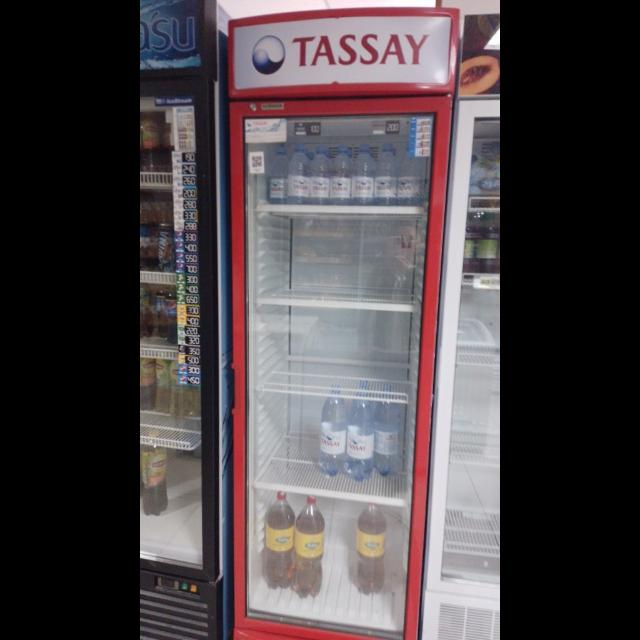Cooling-Display: (228, 6, 460, 638)
